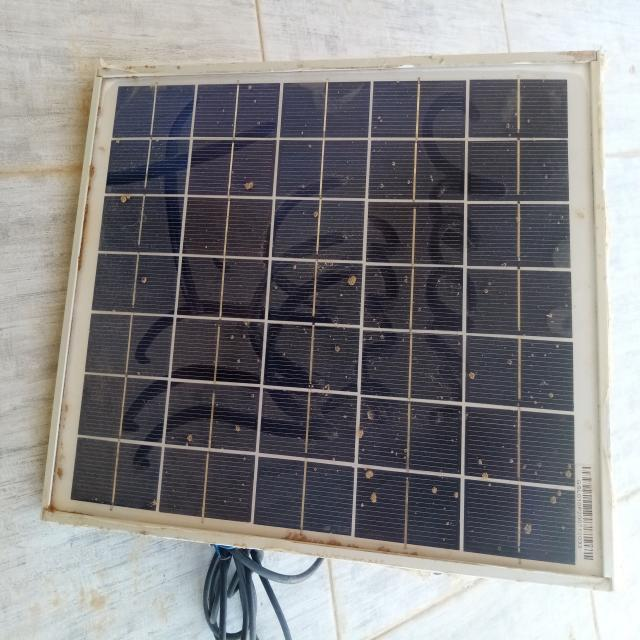faulty: (44, 57, 612, 584)
